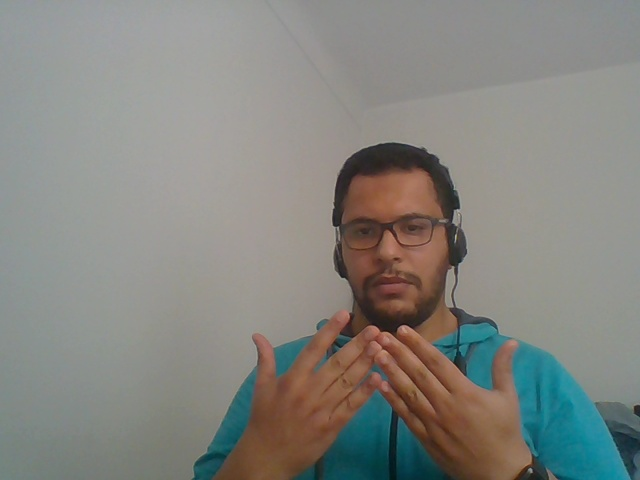thanks: (201, 289, 578, 480)
